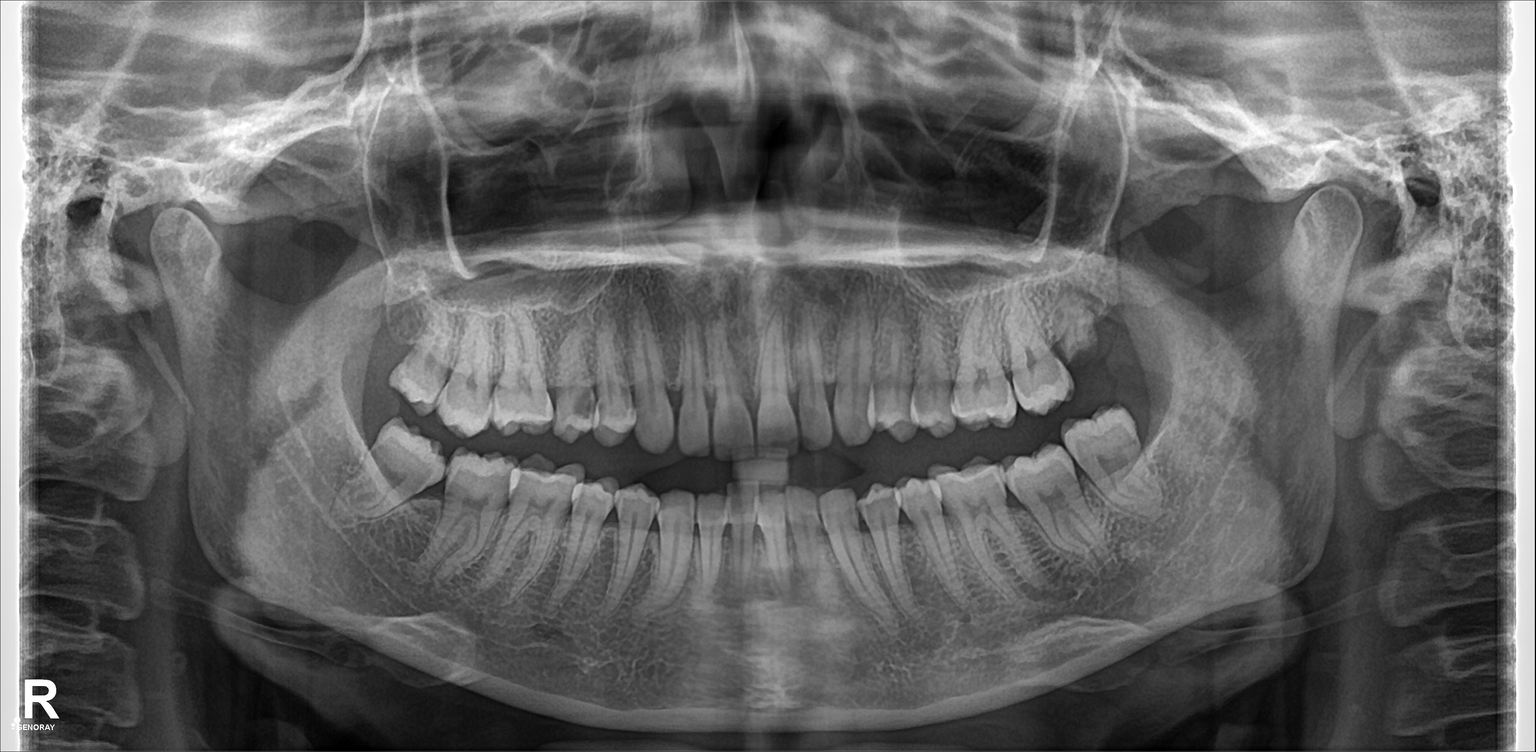Dental Caries: (570, 383, 596, 419)
Impacted Third Molar: (359, 423, 441, 518)
Missing Tooth: (366, 285, 416, 384)
Retained Root: (1060, 290, 1123, 389)
